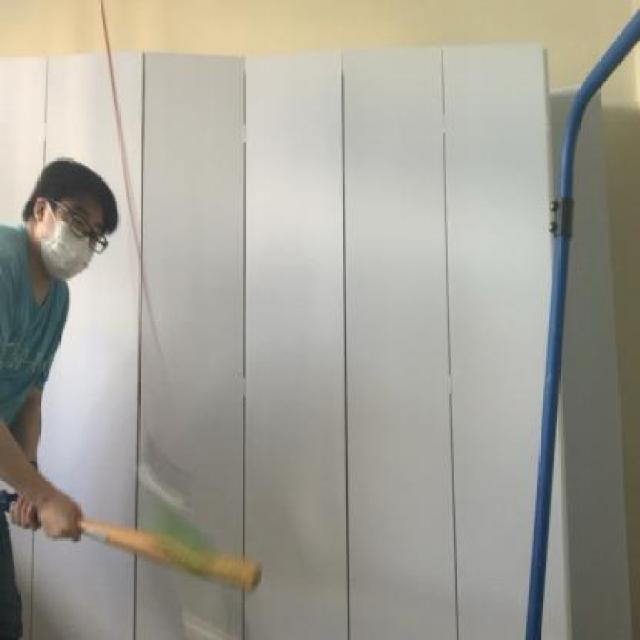baseball: (138, 499, 224, 593)
